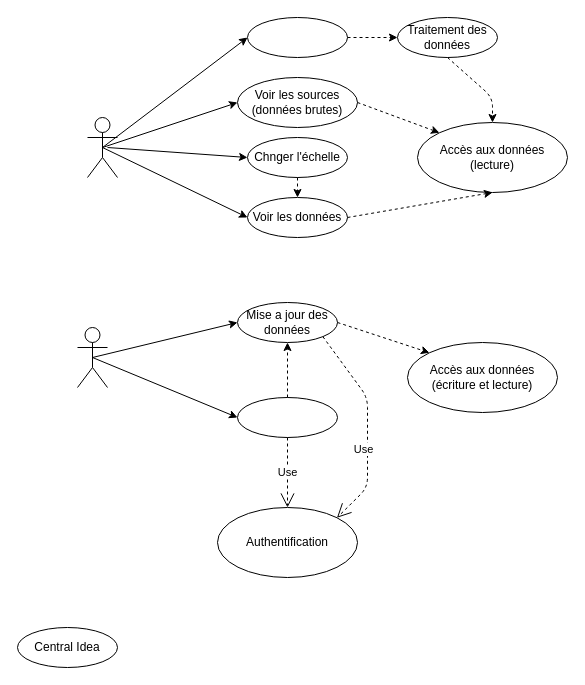
The diagram is 585 pixels wide and 685 high, and some of its shapes have lost their labels. Each missing label, with the centre of its shape:
"Administrateur" belongs at (x=92, y=357).
"Ajouter des sources" belongs at (x=287, y=417).
"taux R du virus" belongs at (x=297, y=37).
"Utilisateur" belongs at (x=102, y=147).
